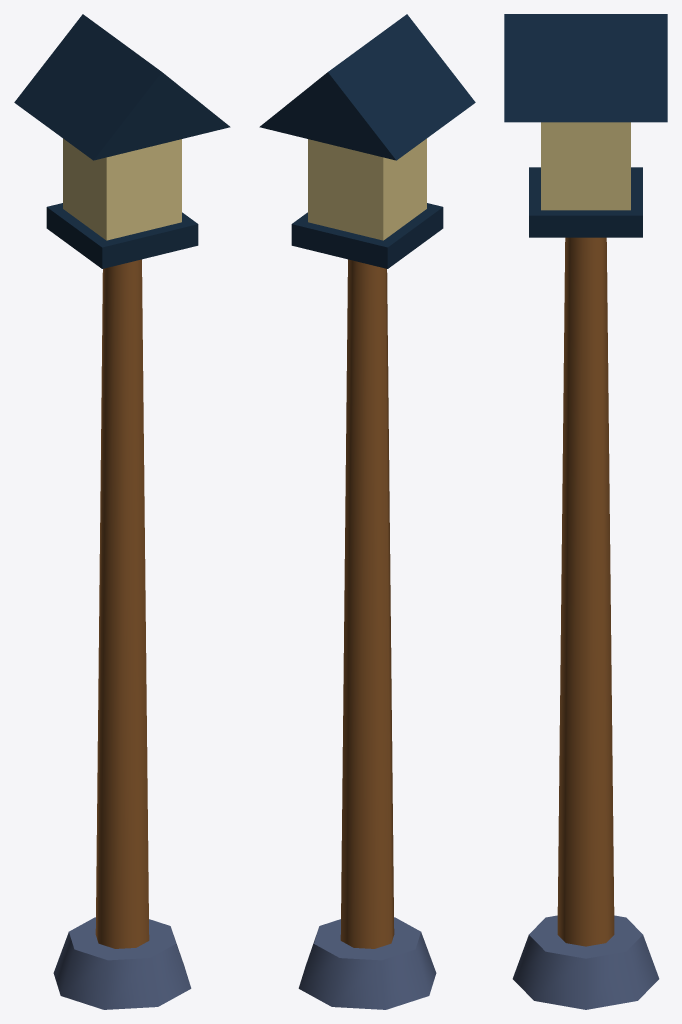
File: lamp.glb
3 views of the same model, side by side, from view 1: azimuth 30°, elevation 25°; view 2: azimuth 150°, elevation 25°; view 3: azimuth 270°, elevation 25° (orthographic). The views are drawn at different scales.
Visible parts, largest first — view 1: lamp_mesh; view 2: lamp_mesh; view 3: lamp_mesh.
Part boxes in pixels (x1,y1,x2,y2): lamp_mesh: (14,14,230,1009); lamp_mesh: (259,14,475,1009); lamp_mesh: (504,14,667,1009).
Size of the model in its own units: 0.4 by 2.61 by 0.4.
